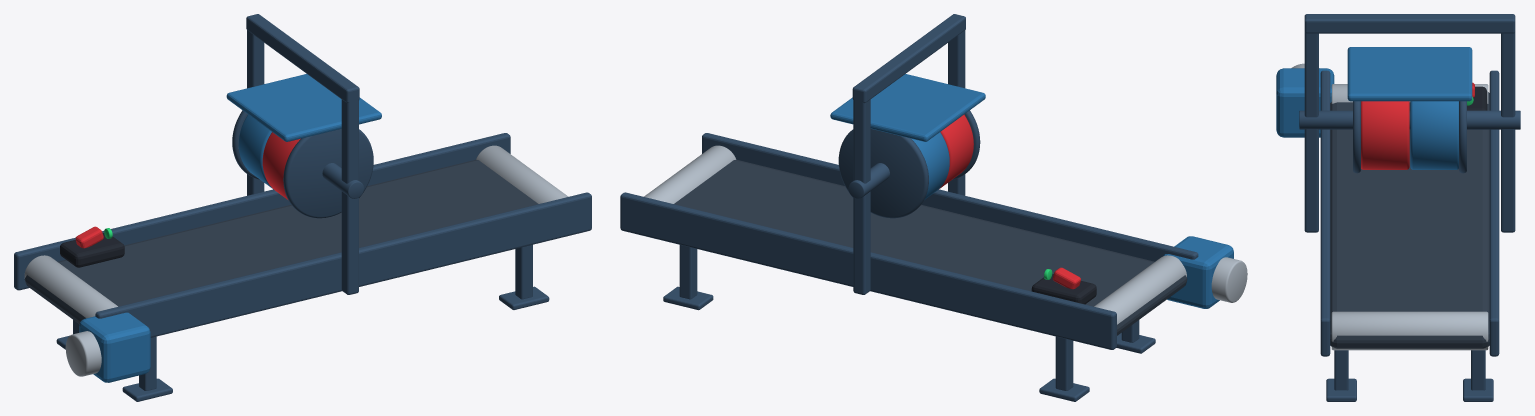
The model's file is magnetic-sorter.glb.
3 views of the same model, side by side, from view 1: azimuth 30°, elevation 25°; view 2: azimuth 150°, elevation 25°; view 3: azimuth 270°, elevation 25° (orthographic). The views are drawn at different scales.
Visible parts, largest first — view 1: BeltDeck, LeftSideRail, RightSideRail, DrumGuard, DrumEndLeft, MotorHousing, MagnetPost_-1.22, MagnetCrossbar, EnclosedRoller_-3.35, EnclosedRoller_3.35, MagneticDrumSouth, Motor (+8 smaller); view 2: BeltDeck, RightSideRail, LeftSideRail, DrumGuard, DrumEndRight, MagnetPost_1.22, MagnetCrossbar, MotorHousing, EnclosedRoller_-3.35, EnclosedRoller_3.35, MagneticDrumNorth, Motor (+8 smaller); view 3: BeltDeck, DrumGuard, EnclosedRoller_3.35, MagnetCrossbar, MagneticDrumNorth, MagneticDrumSouth, LeftSideRail, RightSideRail, MagnetPost_-1.22, MagnetPost_1.22, MotorHousing, DrumAxle (+8 smaller).
Boxes of the visible parts, x1,y1,x2,y2 form: BeltDeck: (24,159,538,323); LeftSideRail: (95,192,591,337); RightSideRail: (14,133,510,290); DrumGuard: (226,74,381,141); DrumEndLeft: (283,129,373,218); MotorHousing: (79,312,150,382); MagnetPost_-1.22: (341,92,358,294); MagnetCrossbar: (246,14,359,102); EnclosedRoller_-3.35: (24,255,117,318); EnclosedRoller_3.35: (476,145,568,203); MagneticDrumSouth: (238,114,273,189); Motor: (65,331,101,376); BeltDeck: (674,159,1187,335); RightSideRail: (620,192,1116,349); LeftSideRail: (702,133,1198,261); DrumGuard: (830,74,985,141); DrumEndRight: (838,129,928,218); MagnetPost_1.22: (853,92,870,294); MagnetCrossbar: (852,14,965,102); MotorHousing: (1163,236,1233,308); EnclosedRoller_-3.35: (1094,255,1186,324); EnclosedRoller_3.35: (644,145,736,203); MagneticDrumNorth: (939,114,973,188); Motor: (1211,257,1247,302); BeltDeck: (1330,92,1489,348); DrumGuard: (1347,47,1472,101); EnclosedRoller_3.35: (1331,311,1488,350); MagnetCrossbar: (1304,14,1515,33); MagneticDrumNorth: (1361,101,1409,169); MagneticDrumSouth: (1410,101,1458,169); LeftSideRail: (1320,70,1330,356); RightSideRail: (1489,70,1499,356); MagnetPost_-1.22: (1304,32,1318,232); MagnetPost_1.22: (1501,32,1515,232); MotorHousing: (1276,68,1334,137); DrumAxle: (1299,110,1520,129).
Size of the model in its own units: 7.8 by 3.86 by 3.03.
